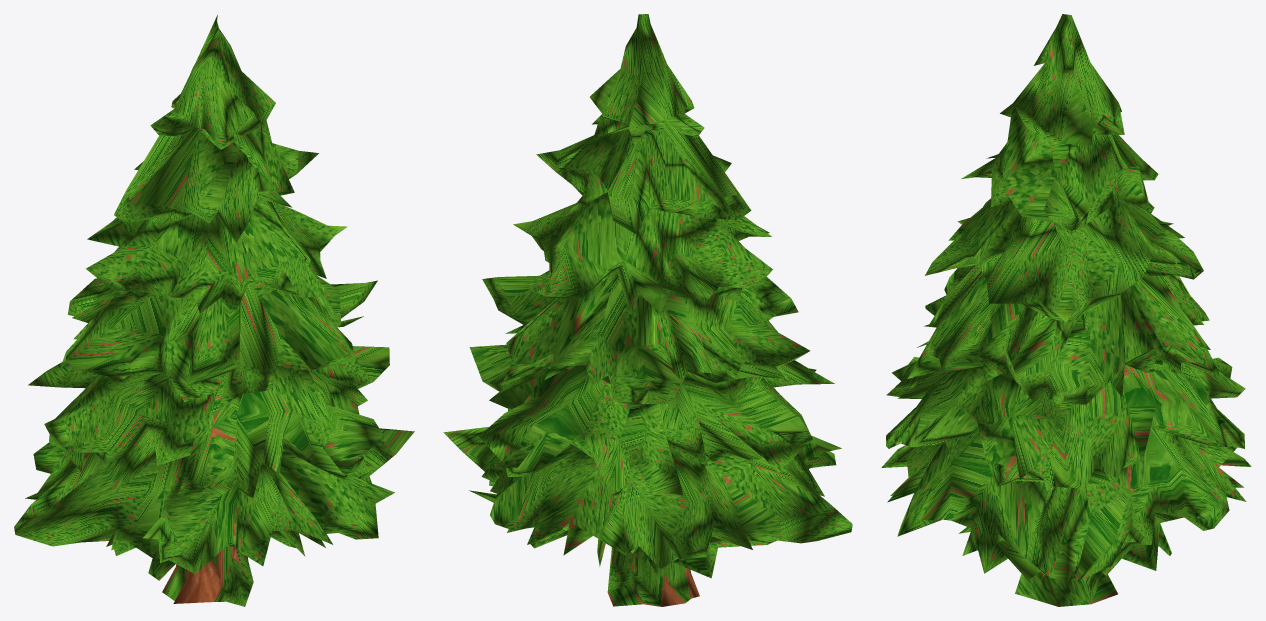
The model's file is pine-tree.glb.
The picture shows the model from 3 angles, left to right: view 1: azimuth 30°, elevation 25°; view 2: azimuth 150°, elevation 25°; view 3: azimuth 270°, elevation 25°; orthographic projection.
Bounding box in the file's own units: 1.39 × 1.89 × 1.1.
Materials: 1 (1 with a texture image).
